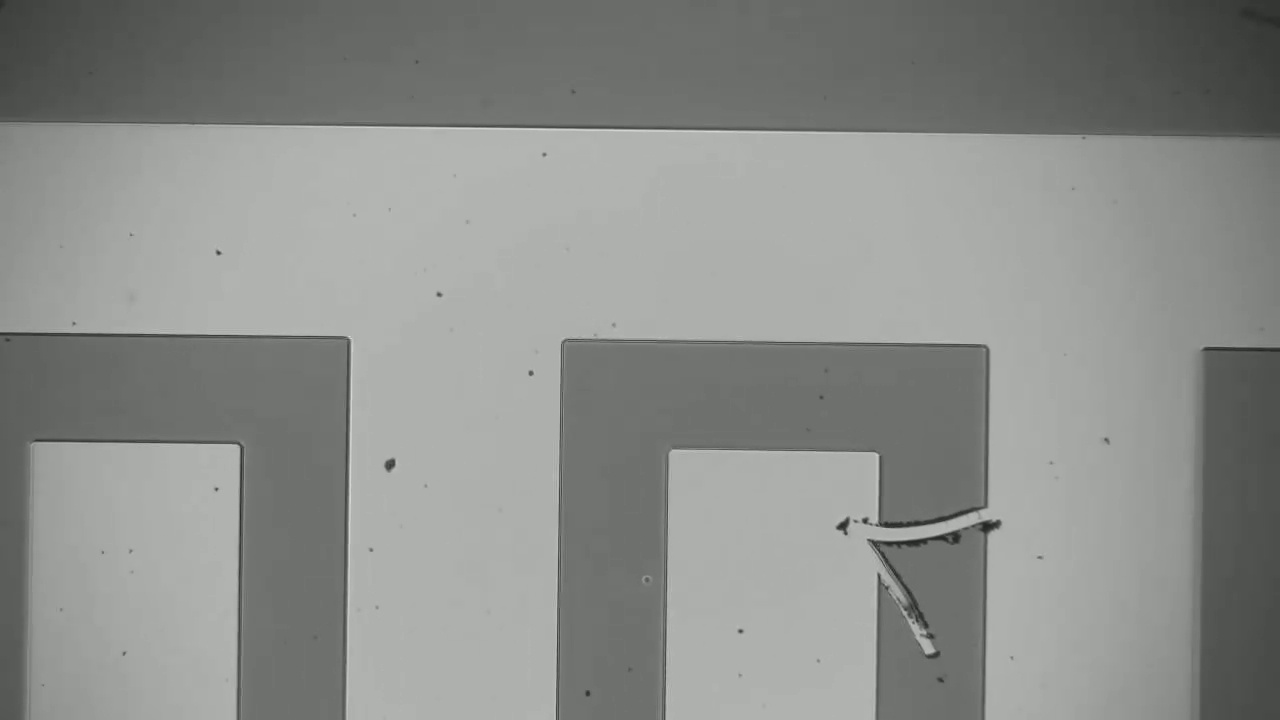Short_circuit: (822, 481, 1005, 577)
